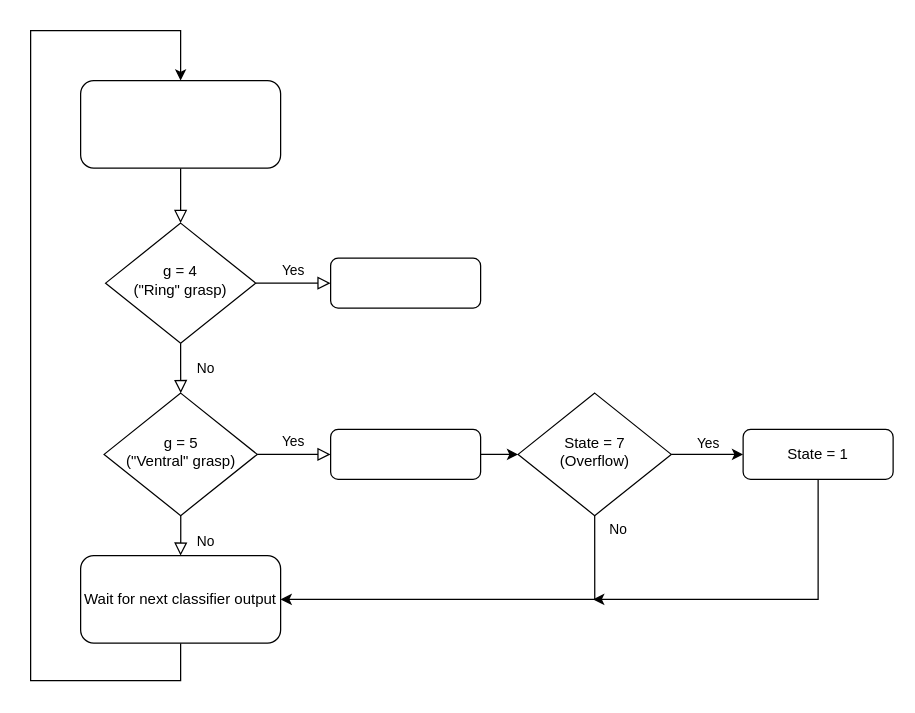
Image size: 915x713. Some labels were removed from this diagram. Here are the shapes that lost their labels. From the top down, the box of each, then its label:
(79, 79, 281, 168): g = Classifier Output
(329, 257, 481, 308): Toggle hand open/close
(329, 428, 481, 479): State = State + 1
